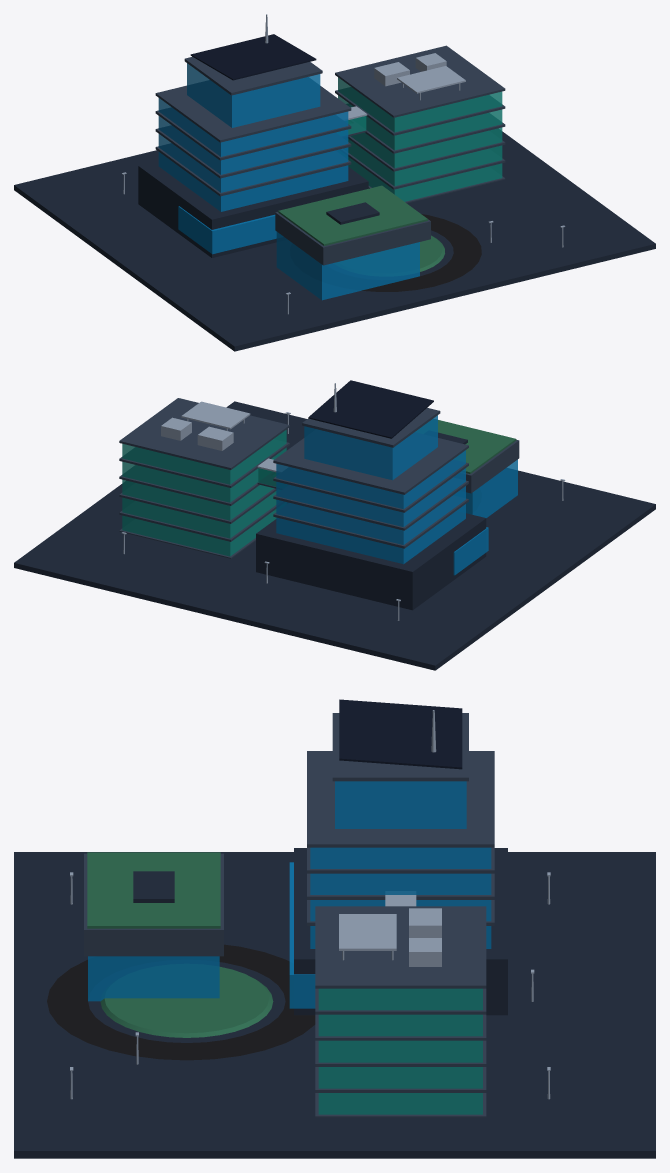
File: tald-smart-city.glb
3 views of the same model, one above another, from view 1: azimuth 30°, elevation 25°; view 2: azimuth 150°, elevation 25°; view 3: azimuth 270°, elevation 25° (orthographic). The views are drawn at different scales.
Visible parts, largest first — view 1: Thiruvananthapuram_TALD_SmartCity_MultiBuilding_Campus, Tower_A_Commercial_HighRise, Tower_B_IT_Operations_Wing, Wing_C_Innovation_Research_Hub, Elevated_Skybridge_L4; view 2: Thiruvananthapuram_TALD_SmartCity_MultiBuilding_Campus, Tower_A_Commercial_HighRise, Tower_B_IT_Operations_Wing, Wing_C_Innovation_Research_Hub, Elevated_Skybridge_L4; view 3: Thiruvananthapuram_TALD_SmartCity_MultiBuilding_Campus, Tower_A_Commercial_HighRise, Tower_B_IT_Operations_Wing, Wing_C_Innovation_Research_Hub.
Boxes of the visible parts, left/top/right/bottom form: Thiruvananthapuram_TALD_SmartCity_MultiBuilding_Campus: left=14, top=104, right=655, bottom=351; Tower_A_Commercial_HighRise: left=138, top=14, right=368, bottom=257; Tower_B_IT_Operations_Wing: left=335, top=45, right=505, bottom=203; Wing_C_Innovation_Research_Hub: left=275, top=185, right=430, bottom=300; Elevated_Skybridge_L4: left=337, top=106, right=367, bottom=136; Thiruvananthapuram_TALD_SmartCity_MultiBuilding_Campus: left=14, top=401, right=655, bottom=670; Tower_A_Commercial_HighRise: left=256, top=380, right=488, bottom=610; Tower_B_IT_Operations_Wing: left=119, top=398, right=289, bottom=558; Wing_C_Innovation_Research_Hub: left=416, top=419, right=519, bottom=517; Elevated_Skybridge_L4: left=257, top=458, right=287, bottom=489; Thiruvananthapuram_TALD_SmartCity_MultiBuilding_Campus: left=14, top=852, right=655, bottom=1158; Tower_A_Commercial_HighRise: left=289, top=699, right=507, bottom=1015; Tower_B_IT_Operations_Wing: left=315, top=906, right=486, bottom=1117; Wing_C_Innovation_Research_Hub: left=84, top=852, right=223, bottom=1001.
Size of the model in its own units: 86 by 36.75 by 78.
